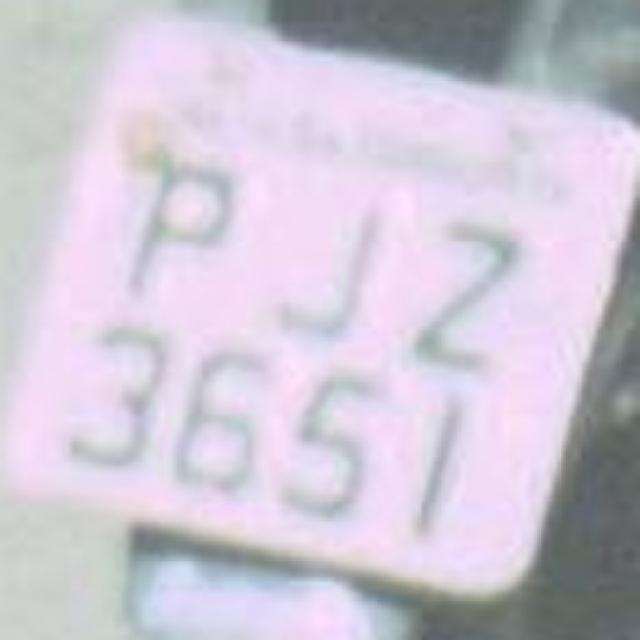1: (376, 376, 492, 552)
3: (25, 284, 200, 488)
5: (251, 349, 404, 536)
6: (144, 316, 288, 512)
J: (256, 160, 396, 360)
P: (104, 140, 251, 320)
Z: (392, 196, 532, 384)
